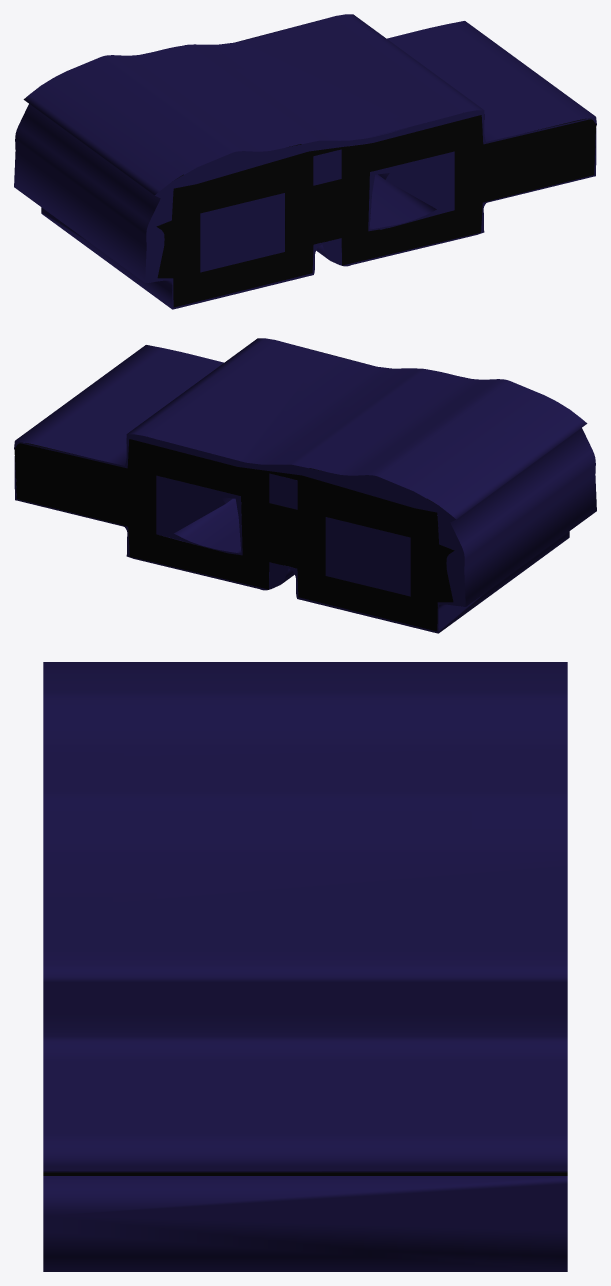
File: Toadz_77.glb
3 views of the same model, one above another, from view 1: azimuth 30°, elevation 25°; view 2: azimuth 150°, elevation 25°; view 3: azimuth 270°, elevation 25° (orthographic). The views are drawn at different scales.
Visible parts, largest first — view 1: Curve; view 2: Curve; view 3: Curve.
Boxes of the visible parts, bbox=[...] form: Curve: bbox=[14, 14, 596, 309]; Curve: bbox=[14, 338, 596, 633]; Curve: bbox=[43, 662, 567, 1271].
Bounding box in the file's own units: 1.99 × 0.5999 × 1.
